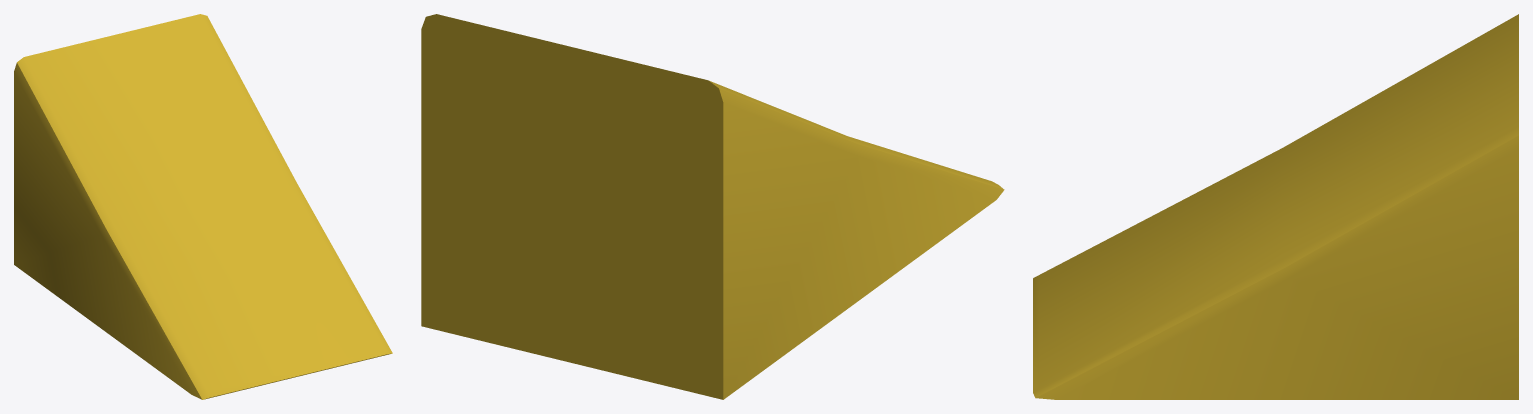
The model's file is (p) Yellow Triangular block.fbx.
The picture shows the model from 3 angles, left to right: view 1: azimuth 30°, elevation 25°; view 2: azimuth 150°, elevation 25°; view 3: azimuth 270°, elevation 25°; orthographic projection. The views are drawn at different scales.
Parts seen in each view (by area): view 1: Triangalar Block.003; view 2: Triangalar Block.003; view 3: Triangalar Block.003.
Part boxes in pixels (x1,y1,x2,y2): Triangalar Block.003: [14, 14, 392, 399]; Triangalar Block.003: [421, 14, 1004, 399]; Triangalar Block.003: [1033, 14, 1518, 399].
Bounding box in the file's own units: 296 × 296 × 488.
